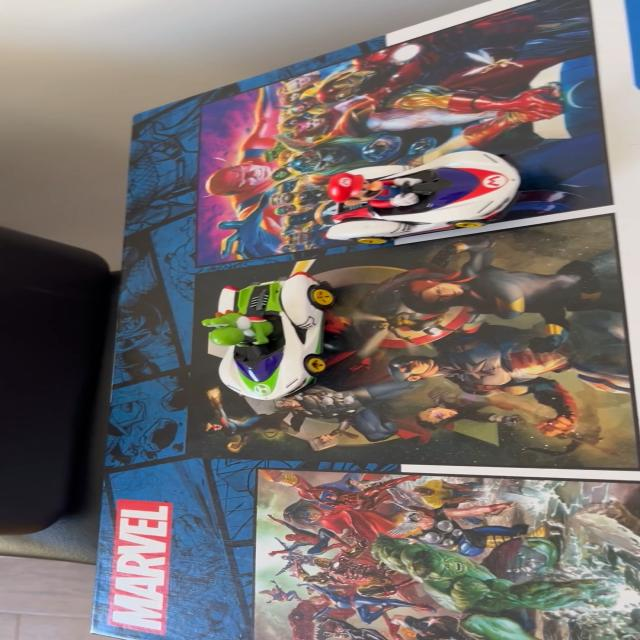mario: (307, 156, 540, 247)
yoshi: (195, 265, 349, 414)
